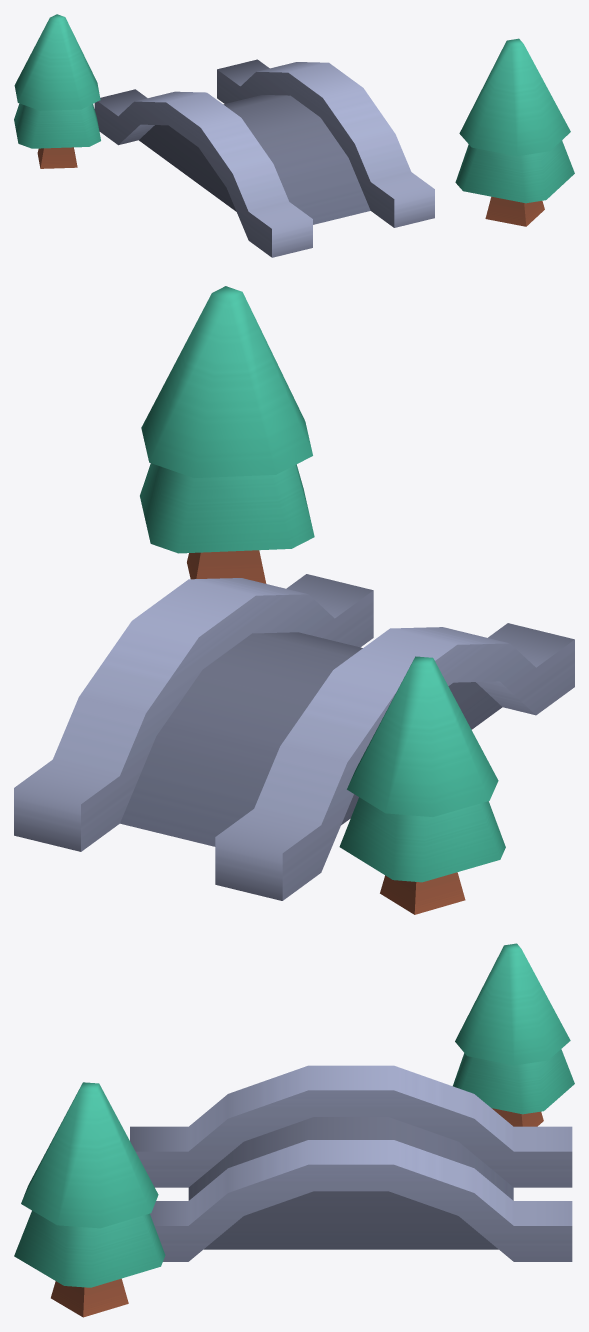
The model's file is bridge.fbx.
The picture shows the model from 3 angles, top to bottom: view 1: azimuth 30°, elevation 25°; view 2: azimuth 150°, elevation 25°; view 3: azimuth 270°, elevation 25°; orthographic projection. The views are drawn at different scales.
Parts seen in each view (by area): view 1: bridge; view 2: bridge; view 3: bridge.
Boxes of the visible parts, bbox=[...] form: bridge: bbox=[14, 14, 574, 257]; bridge: bbox=[14, 286, 574, 914]; bridge: bbox=[14, 943, 574, 1317].
Size of the model in its own units: 78.95 by 33.82 by 80.1.
